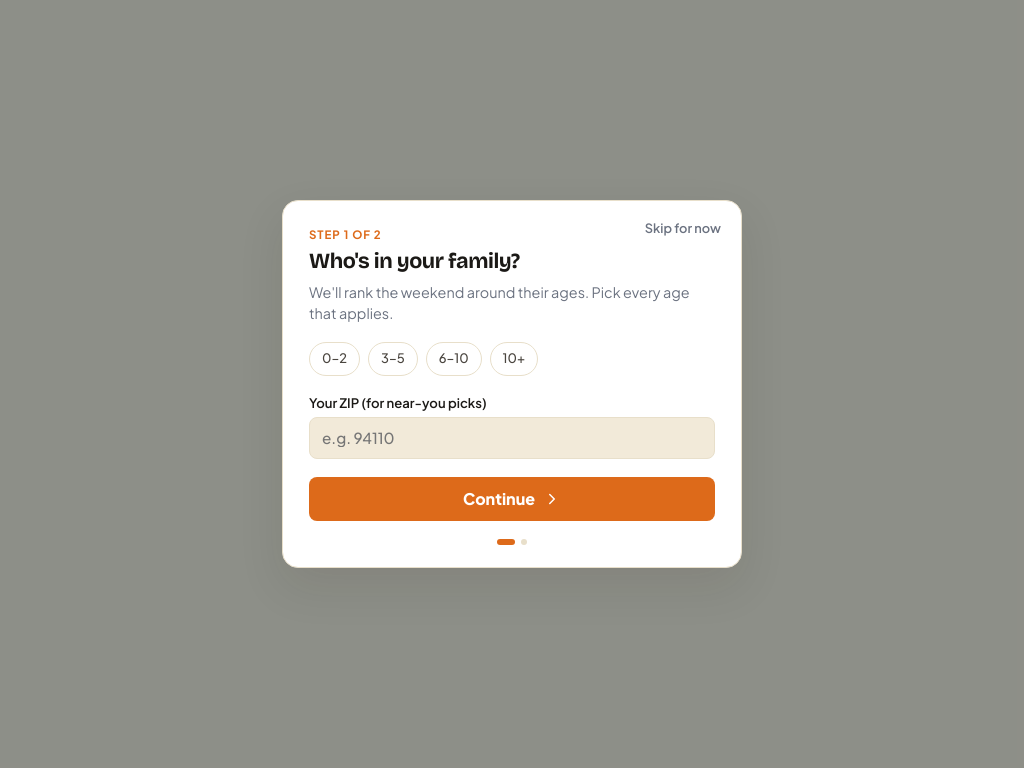
OnboardingWizard › lets the user go back to step 1 without losing selections
Click the button "0–2" at (334, 358), box [309,342,360,376]
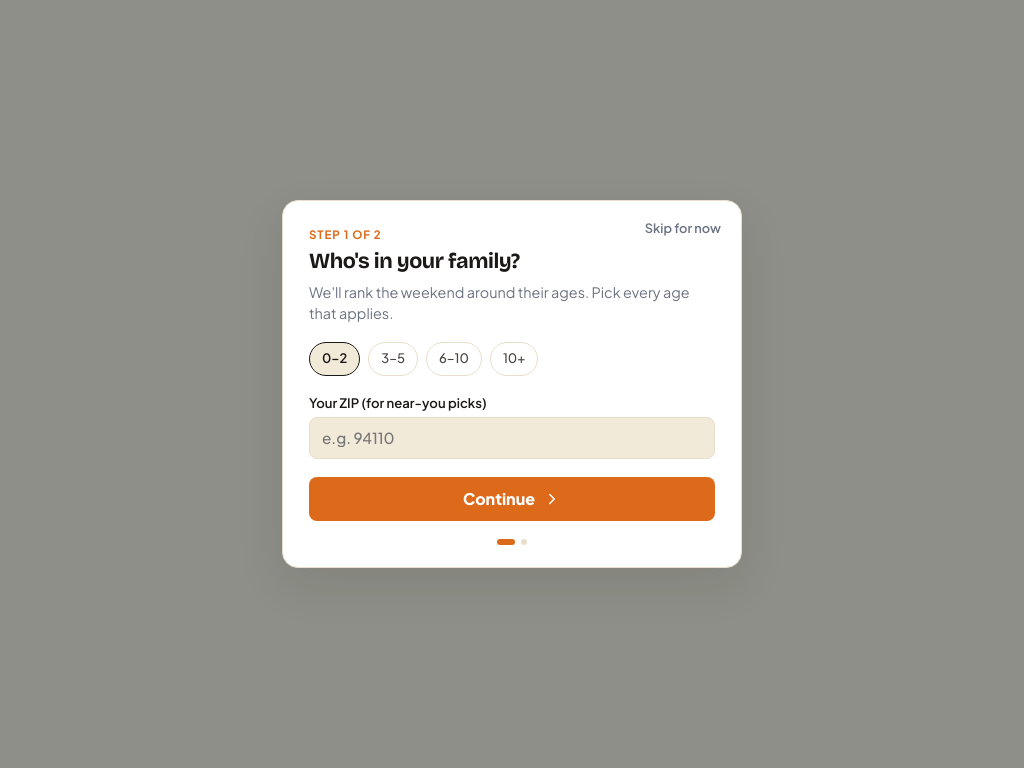
Click the button "Continue" at (512, 498), box [309,476,715,520]
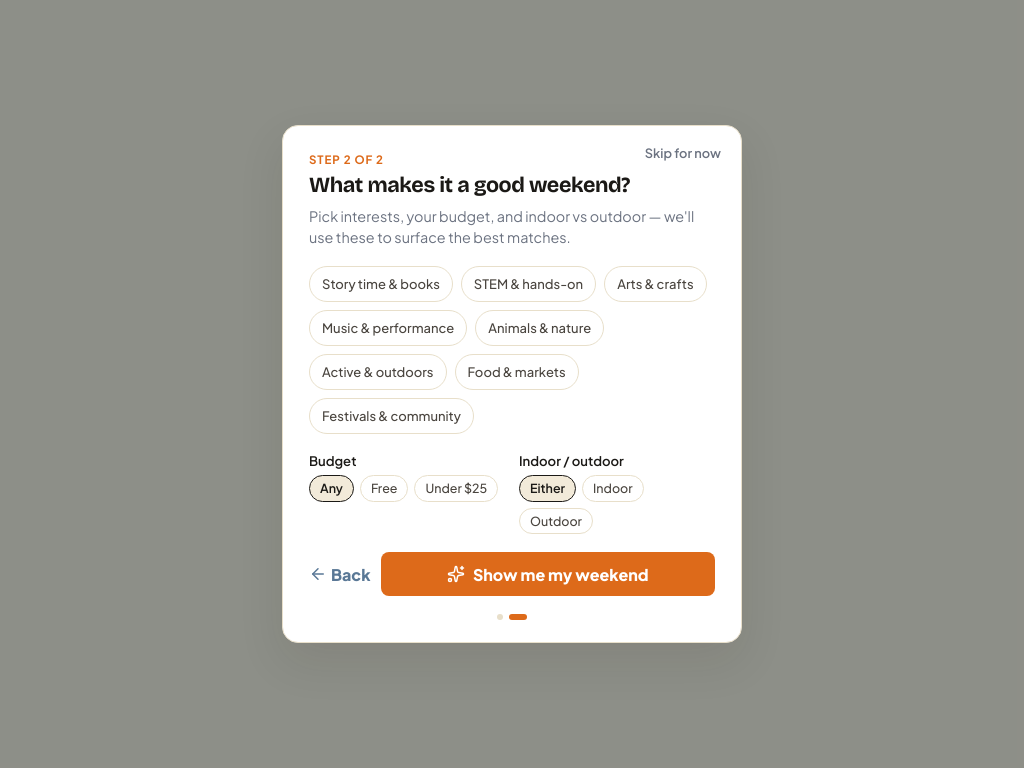
Click the button "Back" at (340, 574), box [309,564,370,584]
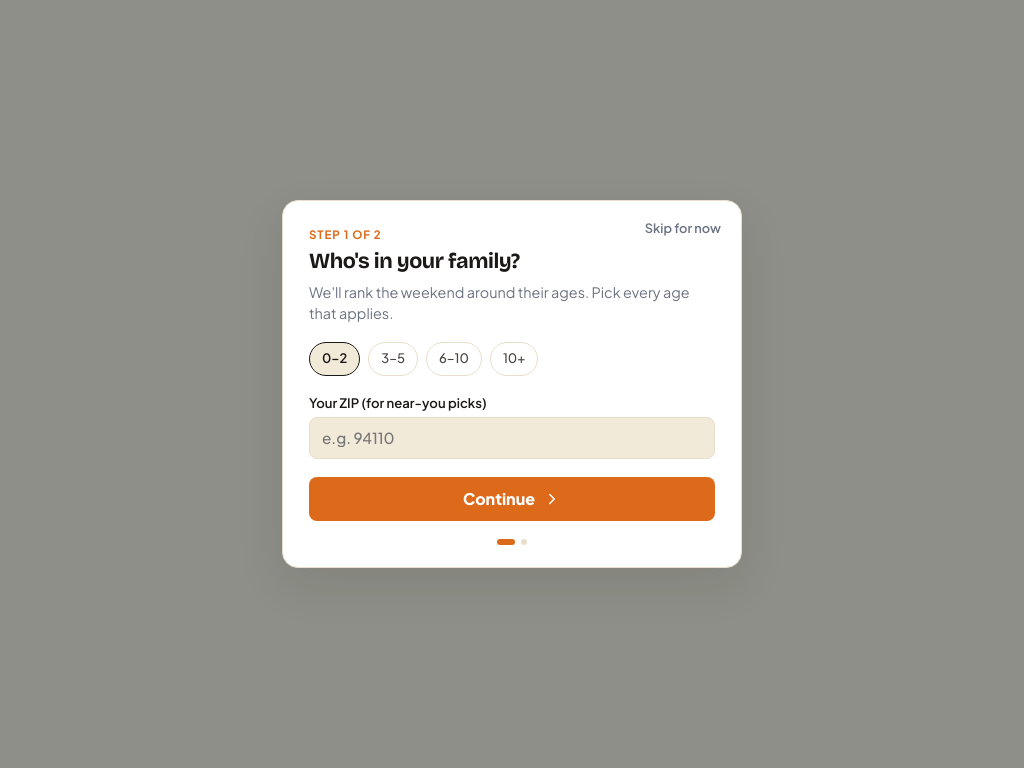
Check: the heading "Who's in your family?" is shown, box [309,248,520,274]
